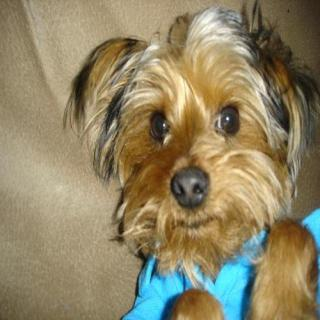dog: (73, 15, 305, 271)
nose: (168, 165, 212, 211)
